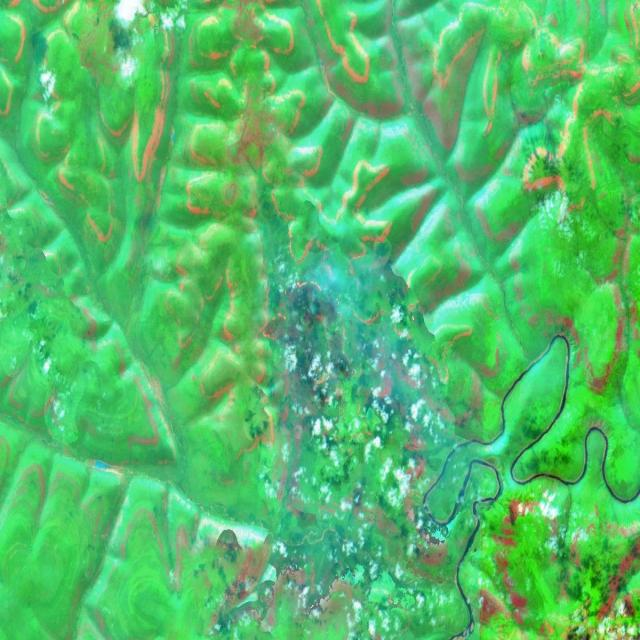fire: (256, 274, 375, 420)
